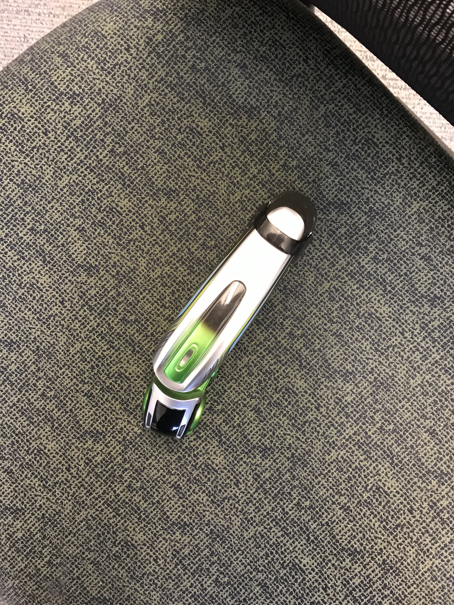Freewheel: (139, 197, 313, 440)
